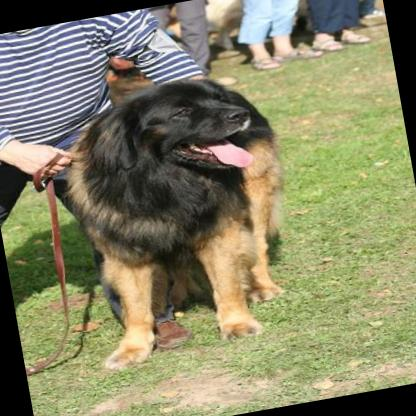Leonberg: (35, 55, 319, 378)
